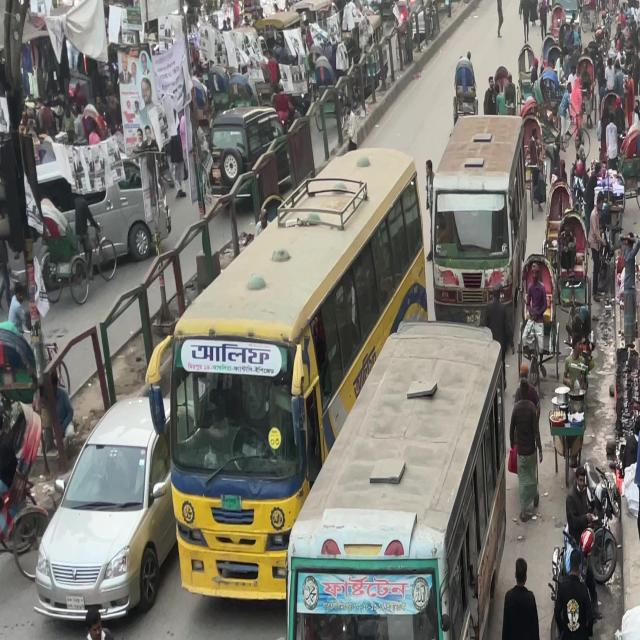bus: (152, 130, 425, 602), (269, 300, 509, 640), (425, 81, 533, 334)
car: (32, 359, 160, 632)
